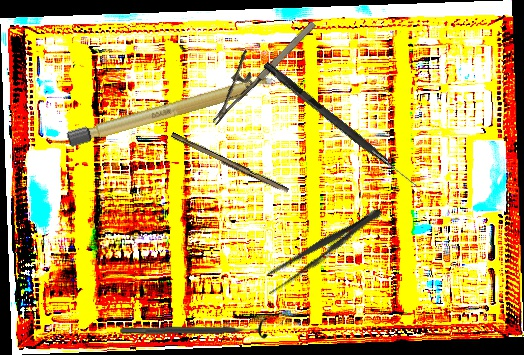Dressing Forceps: (258, 200, 387, 298)
Fixation Ring: (119, 316, 269, 343)
Hook Surgical: (261, 61, 421, 189)
Needle Holder: (192, 3, 319, 126)
Scalpel Handle: (65, 72, 279, 149), (169, 132, 290, 195)
